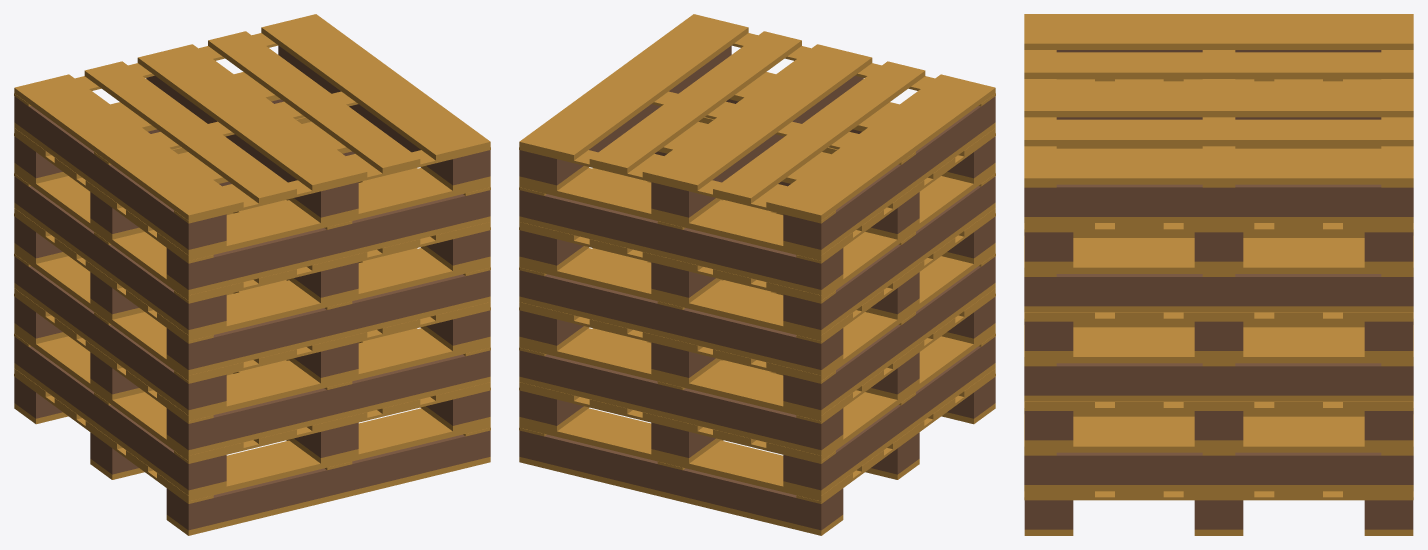
Rendered from PaletMontaña.fbx.
The picture shows the model from 3 angles, left to right: view 1: azimuth 30°, elevation 25°; view 2: azimuth 150°, elevation 25°; view 3: azimuth 270°, elevation 25°; orthographic projection. The views are drawn at different scales.
Parts seen in each view (by area): view 1: Cube.015; view 2: Cube.015; view 3: Cube.015.
Boxes of the visible parts, box(x1,y1,x2,y2) form: Cube.015: box(14, 14, 490, 535); Cube.015: box(519, 14, 995, 535); Cube.015: box(1024, 14, 1413, 535).
Bounding box in the file's own units: 24 × 24 × 24.32.
